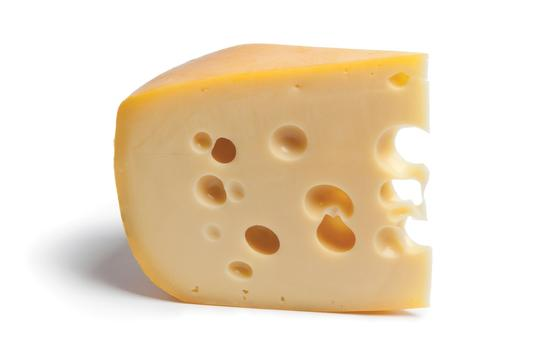cheese: (114, 40, 445, 330)
